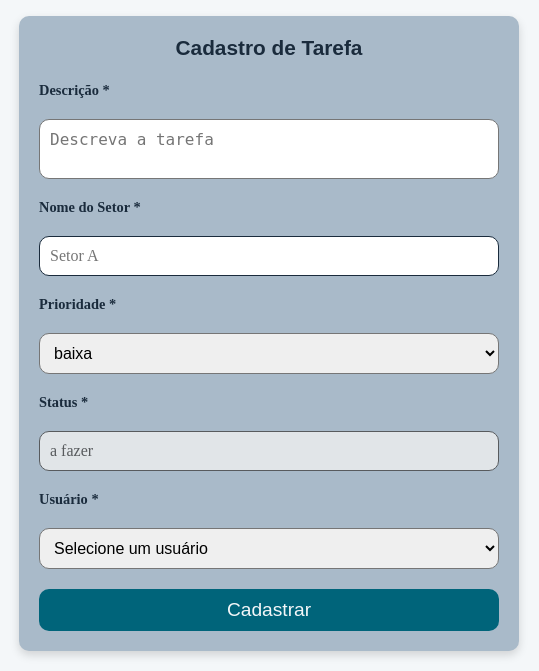
Test case: Cadastro de Tarefas › exibe erro para campo descrição vazio específico
This screenshot has width=539, height=671.
Click the button "Cadastrar".
click(269, 610)  # box left=39, top=589, right=499, bottom=631
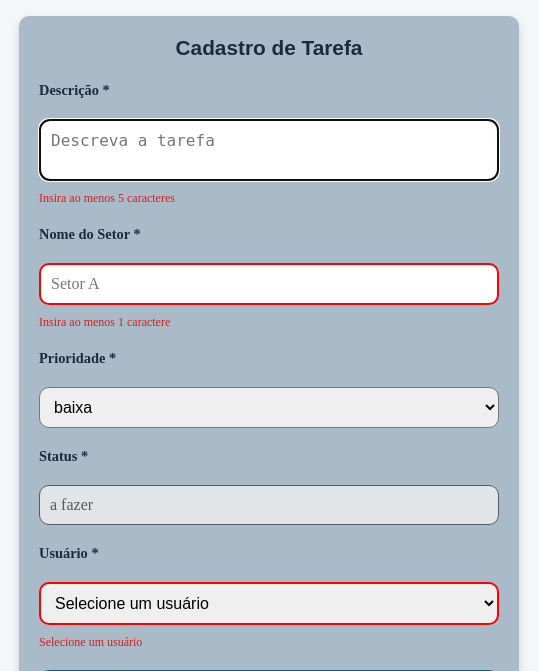
Expected: the text "Insira ao menos 5 caracteres" is shown, left=39, top=191, right=175, bottom=205
